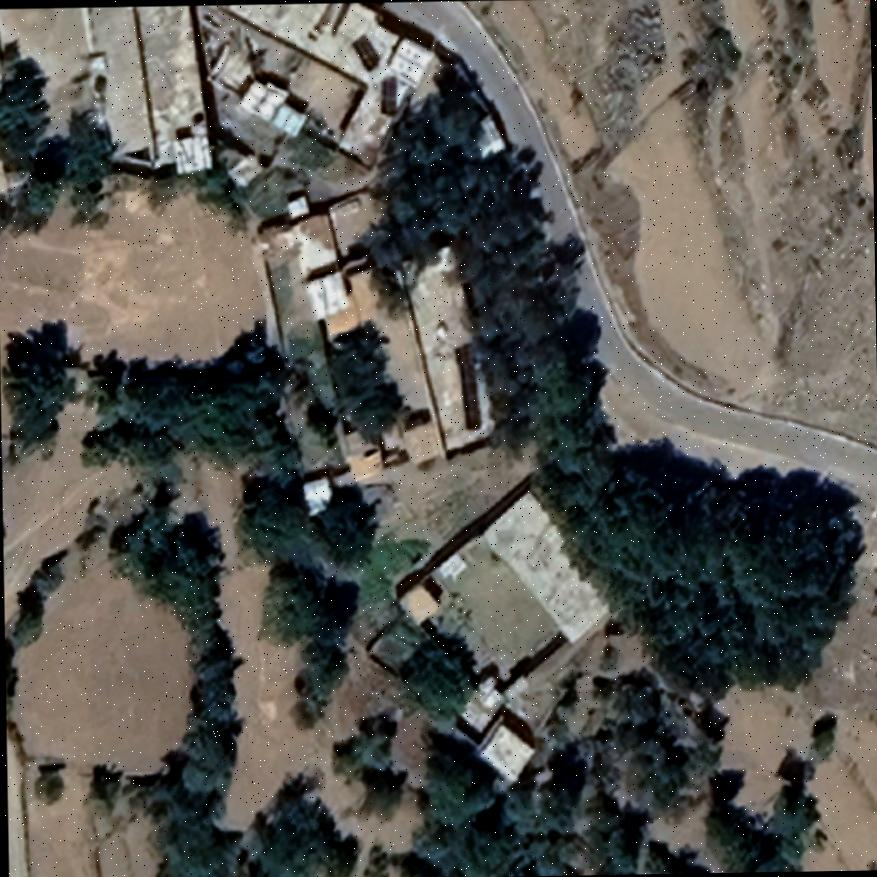Solarpanel: (453, 340, 483, 431), (349, 30, 381, 72), (379, 74, 397, 116)
